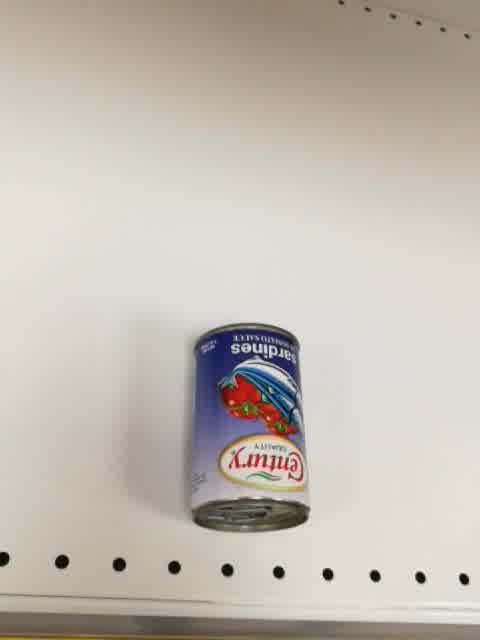sardine: (188, 322, 312, 533)
